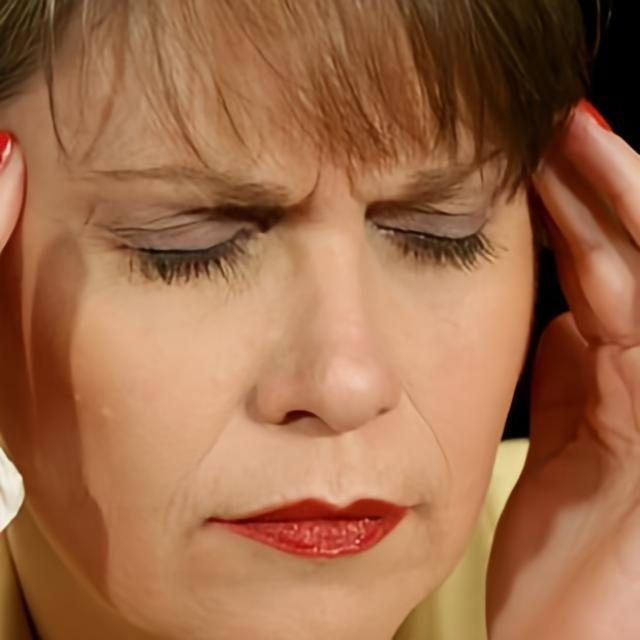sad: (25, 10, 537, 640)
